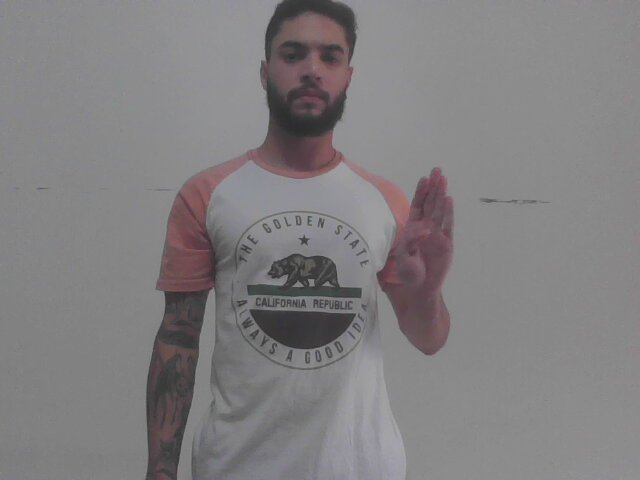b: (390, 162, 457, 299)
